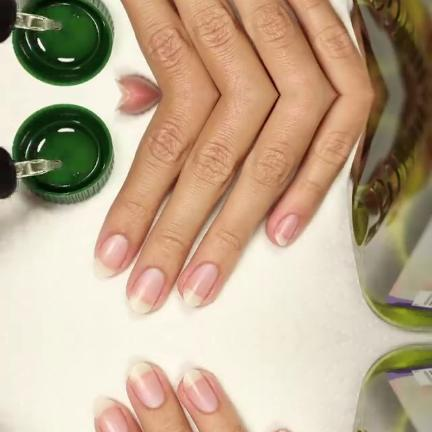Nail: (92, 233, 128, 279), (129, 267, 165, 312), (129, 362, 165, 407), (183, 263, 218, 306), (183, 368, 218, 411), (92, 395, 128, 432), (275, 213, 298, 245), (278, 429, 287, 432)
